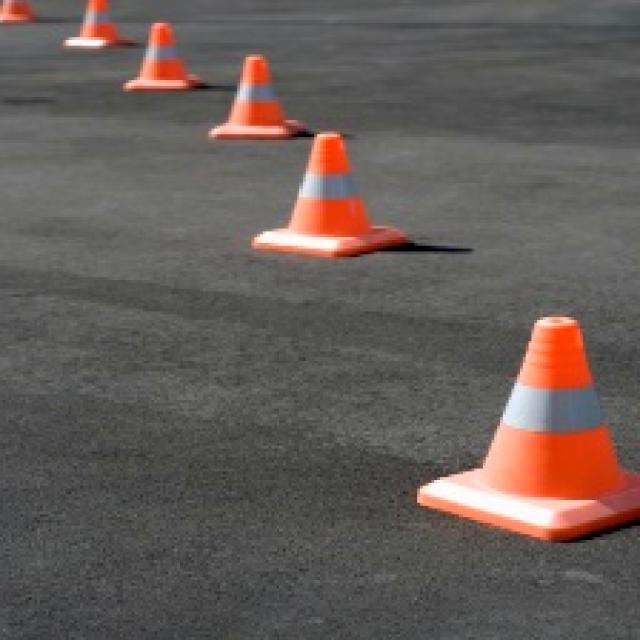cone: (416, 314, 640, 543), (248, 125, 412, 265), (208, 51, 309, 143), (118, 22, 202, 95), (61, 0, 136, 50)
